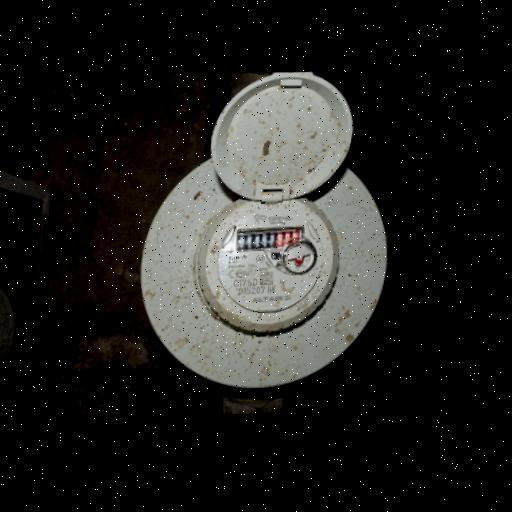0: (237, 233, 246, 249), (283, 230, 290, 244)
1: (244, 232, 253, 249), (252, 233, 261, 249)
4: (260, 231, 267, 248), (291, 227, 299, 240)
7: (268, 231, 275, 248)
8: (274, 230, 283, 246)
border_water_meter_number: (234, 222, 306, 253)
